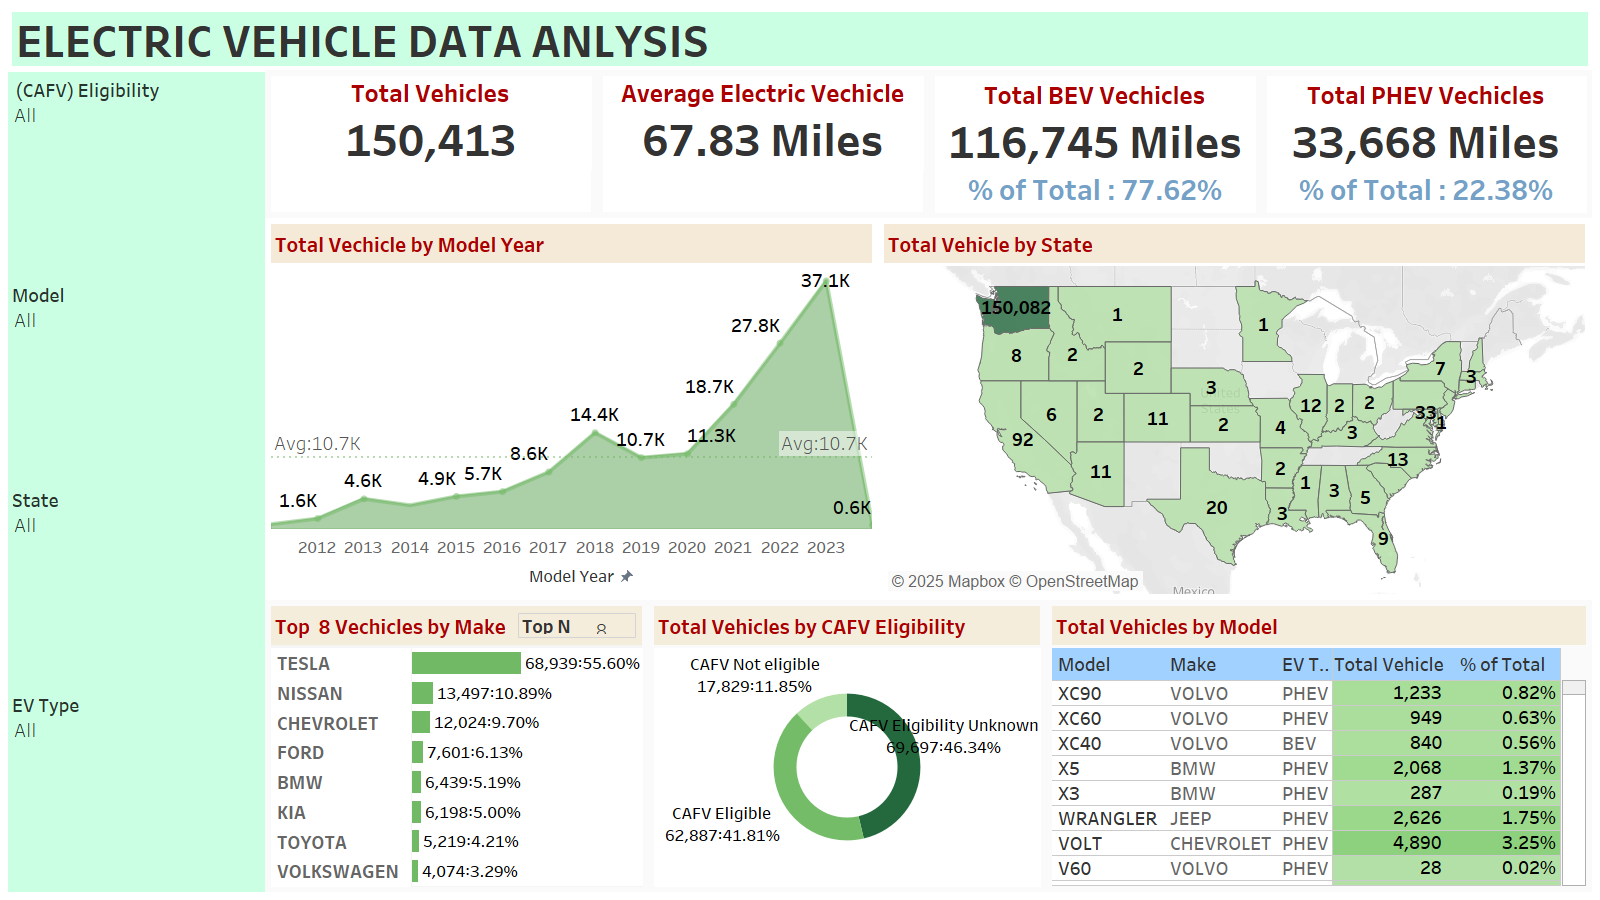

The page's visual inventory and layout, read from the dashboard file:
{"tool":"tableau","page":{"name":"Dashboard 1","canvas":[1600,900],"ordinal":0},"visuals":[{"type":"title","box":[8,8,1584,62]},{"type":"worksheet","title":"Total Vehicle","mark":"Automatic","box":[265,70,332,148]},{"type":"worksheet","title":"Average Electric Vehicle","mark":"Automatic","box":[597,70,332,148]},{"type":"worksheet","title":"Total BEV Vehicles","mark":"Automatic","box":[929,70,332,148]},{"type":"worksheet","title":"Total PHEV Vehicles","mark":"Automatic","box":[1261,70,331,148]},{"type":"filter","title":"Total Vechicle by Model Year","param":"[federated.1fvqeth0szr5161bz7gq1159wcfs].[none:Clean Alternative Fuel Vehicle (C","box":[8,72,257,205]},{"type":"worksheet","title":"Total Vechicle by Model Year","mark":"Area","rows":["Calculation_2545096770953256960","Calculation_2545096770953256960"],"cols":["Model Year"],"box":[265,218,613.5,382]},{"type":"worksheet","title":"Total Vehicle by State","mark":"Multipolygon","box":[878.5,218,713.5,382]},{"type":"filter","title":"Total Vechicle by Model Year","param":"[federated.1fvqeth0szr5161bz7gq1159wcfs].[none:Electric Vehicle Type:nk]","box":[8,277,257,205]},{"type":"filter","title":"Total Vechicle by Model Year","param":"[federated.1fvqeth0szr5161bz7gq1159wcfs].[none:Model:nk]","box":[8,482,257,205]},{"type":"worksheet","title":"Top 10 Vechicles by Make","mark":"Automatic","rows":["Make"],"cols":["Calculation_2545096770953256960"],"box":[265,600,383,292]},{"type":"worksheet","title":"Total Vehicles by CAFV Eligibility","mark":"Pie","rows":["Calculation_2545096771034927117","Calculation_2545096771034927117"],"box":[648,600,398,292]},{"type":"worksheet","title":"Total Vehicles by Model","mark":"Square","rows":["Model","Make","Electric Vehicle Type"],"box":[1046,600,546,292]},{"type":"parameter","param":"[Parameters].[Parameter 1]","box":[518,613,118,25]},{"type":"filter","title":"Total Vechicle by Model Year","param":"[federated.1fvqeth0szr5161bz7gq1159wcfs].[none:State:nk]","box":[8,687,257,205]}]}

Visuals, with their boxes in screenshot pixels (x1, y1, x2, y2), scaled from the page's 1600x900 canvas onto the 1600x900 screenshot:
title: (8, 8, 1592, 70)
"Total Vehicle" worksheet: (265, 70, 597, 218)
"Average Electric Vehicle" worksheet: (597, 70, 929, 218)
"Total BEV Vehicles" worksheet: (929, 70, 1261, 218)
"Total PHEV Vehicles" worksheet: (1261, 70, 1592, 218)
"Total Vechicle by Model Year" filter: (8, 72, 265, 277)
"Total Vechicle by Model Year" worksheet (Area marks): (265, 218, 878, 600)
"Total Vehicle by State" worksheet (Multipolygon marks): (878, 218, 1592, 600)
"Total Vechicle by Model Year" filter: (8, 277, 265, 482)
"Total Vechicle by Model Year" filter: (8, 482, 265, 687)
"Top 10 Vechicles by Make" worksheet: (265, 600, 648, 892)
"Total Vehicles by CAFV Eligibility" worksheet (Pie marks): (648, 600, 1046, 892)
"Total Vehicles by Model" worksheet (Square marks): (1046, 600, 1592, 892)
parameter: (518, 613, 636, 638)
"Total Vechicle by Model Year" filter: (8, 687, 265, 892)
